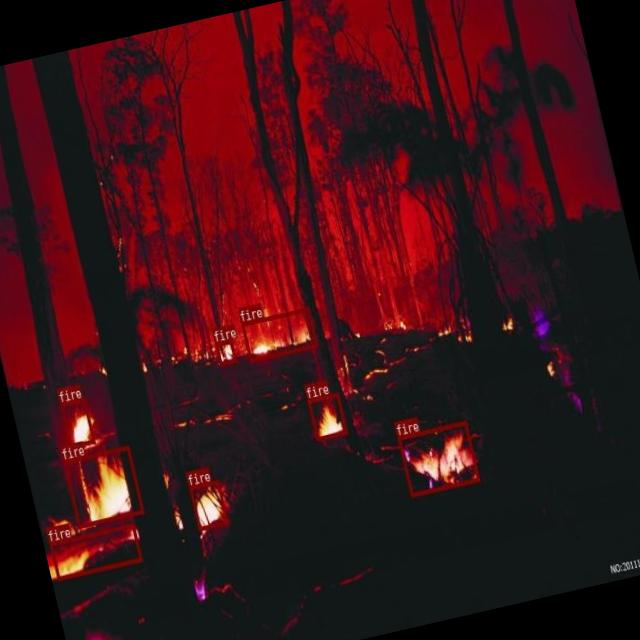fire: (62, 444, 144, 528), (396, 420, 479, 496), (48, 523, 142, 580), (240, 306, 318, 362), (188, 479, 228, 530), (306, 391, 347, 440), (59, 397, 95, 448), (213, 338, 236, 365)
